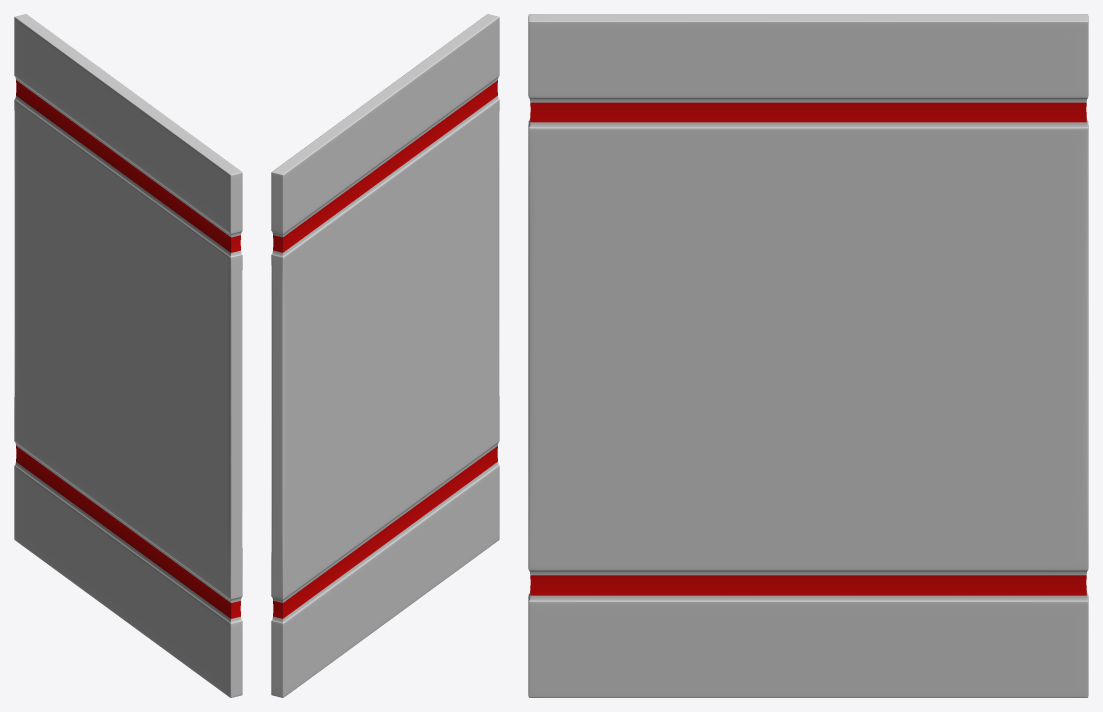
The model's file is Wall03_LP_FBX.fbx.
3 views of the same model, side by side, from view 1: azimuth 30°, elevation 25°; view 2: azimuth 150°, elevation 25°; view 3: azimuth 270°, elevation 25° (orthographic). The views are drawn at different scales.
Parts seen in each view (by area): view 1: pCube20; view 2: pCube20; view 3: pCube20.
Part boxes in pixels (x1,y1,x2,y2): pCube20: [14, 14, 242, 697]; pCube20: [271, 14, 499, 697]; pCube20: [528, 14, 1088, 697].
Size of the model in its own units: 10 by 400 by 300.
